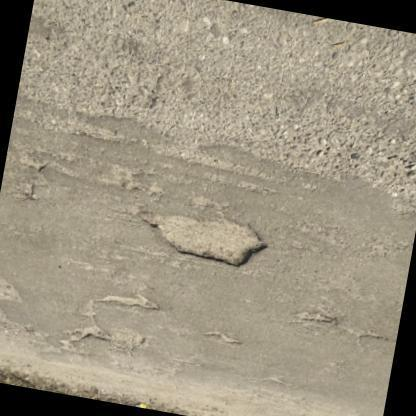pothole: (145, 212, 270, 268), (79, 295, 160, 346)
